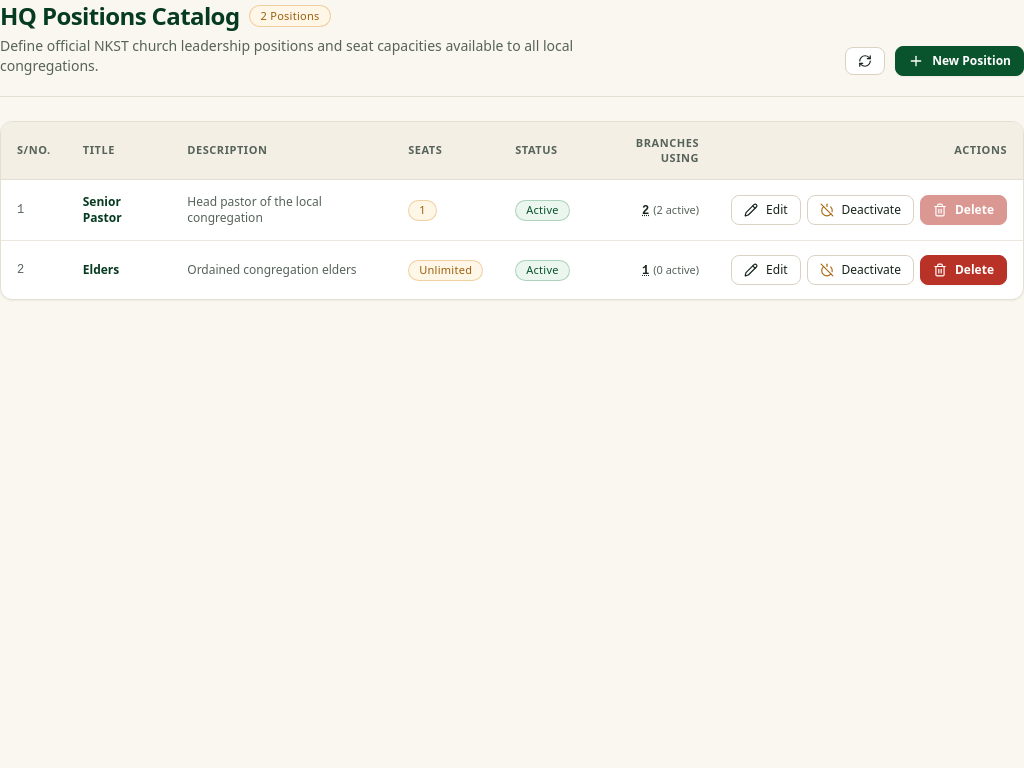
Test: Integration: HQ Positions Catalog UI › displays inline 409 Conflict error when creating a duplicate title
This screenshot has width=1024, height=768.
Expected: the text "Senior Pastor" is shown, [67,180,171,241]
Step 1. Click the button "New Position" → (960, 61), box [895,46,1023,76]
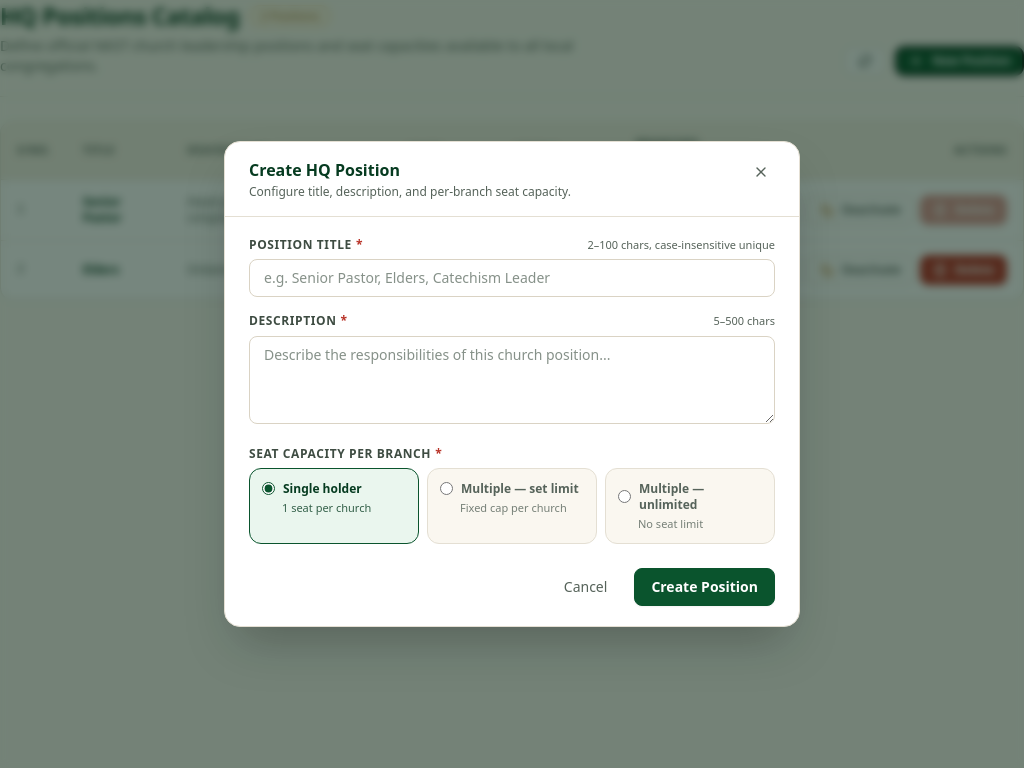
Step 2. Type "senior pastor" into the field with placeholder "e.g. Senior Pastor, Elders, Catechism Leader" → (512, 278), box [249,259,775,297]
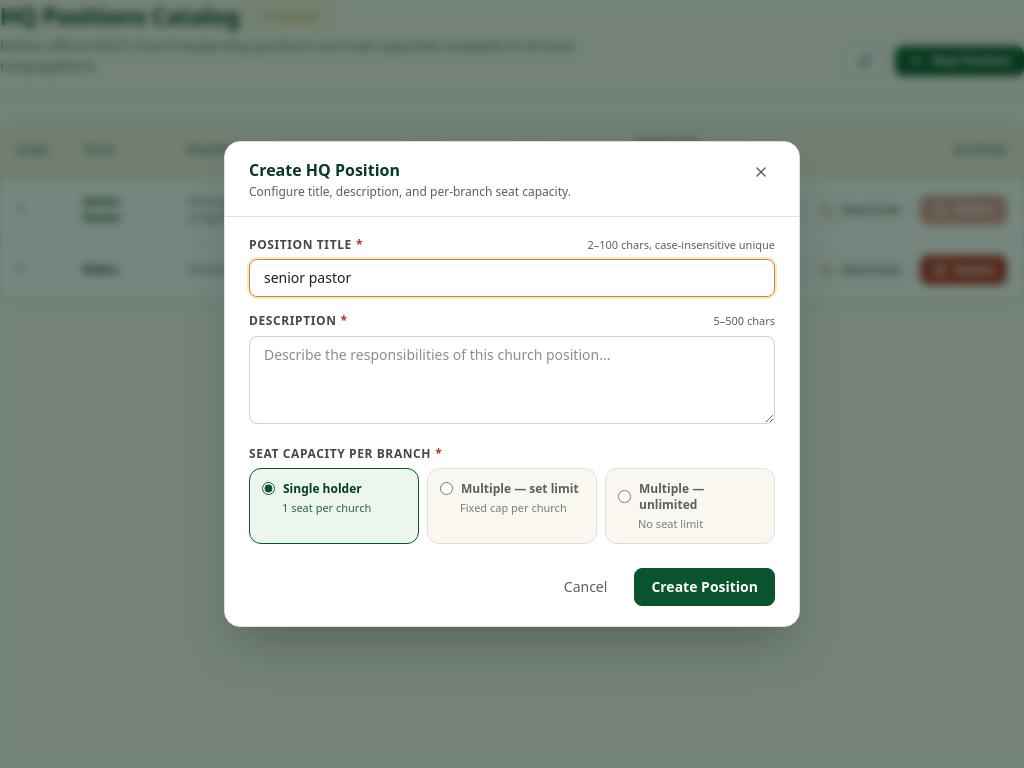
Step 3. Type "Duplicate leadership role description" into the text box with placeholder "Describe the responsibilities of this church position..." → (512, 380), box [249,336,775,424]
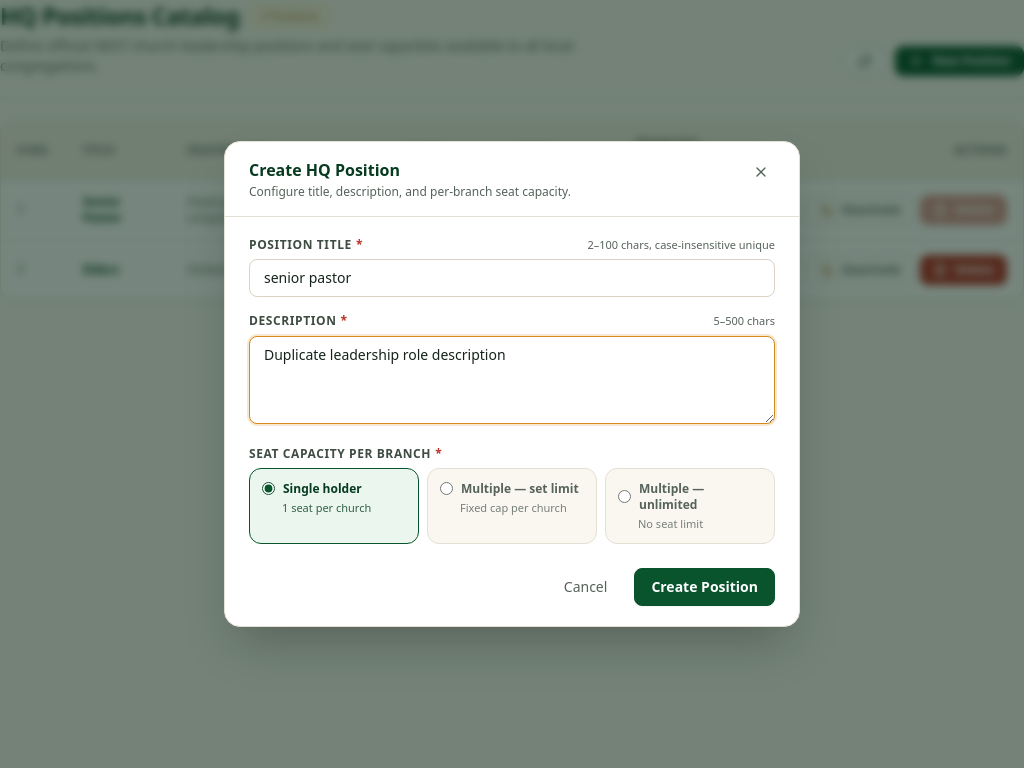
Step 4. Click the button "Create Position" → (705, 587), box [634,568,775,606]
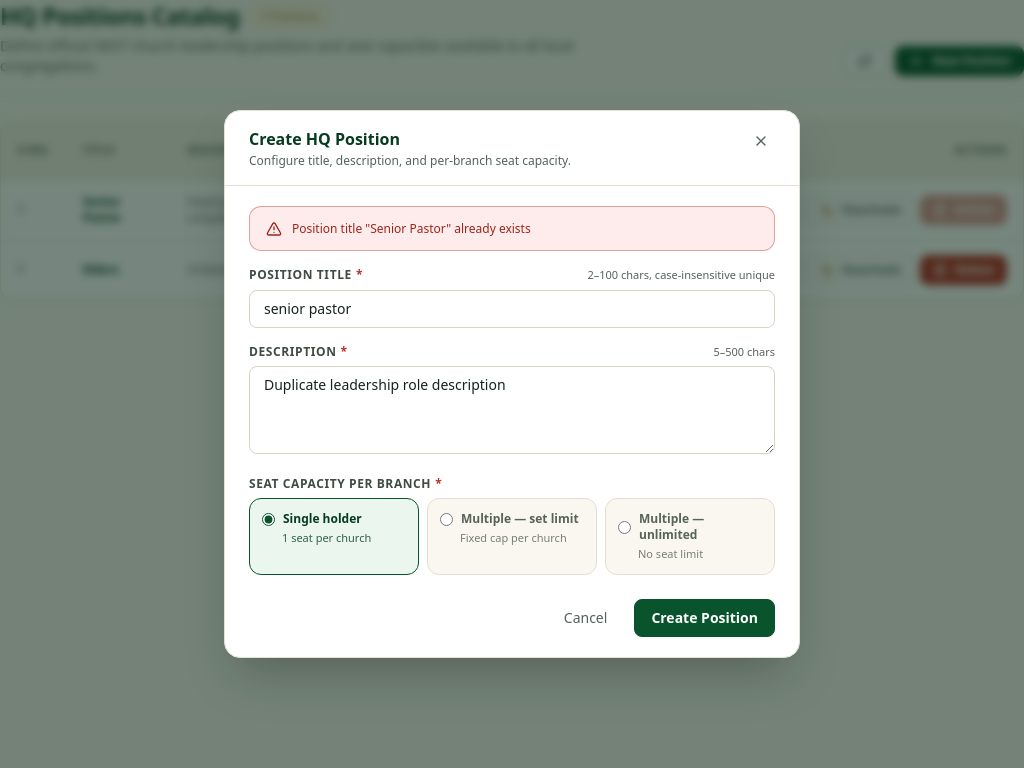
Now the message reads "Position title \"Senior Pastor\" already exists", box [292,220,531,237]
